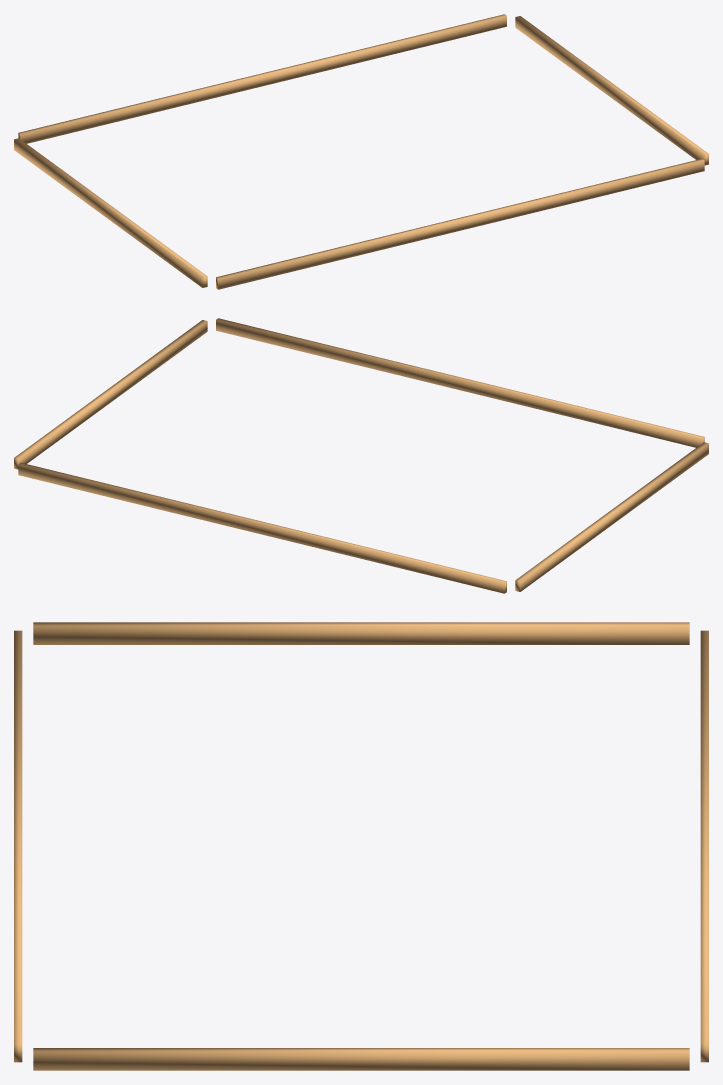
The model's file is 14_L94_CopperEdgeAndMountBosses.glb.
3 views of the same model, one above another, from view 1: azimuth 30°, elevation 25°; view 2: azimuth 150°, elevation 25°; view 3: azimuth 270°, elevation 25° (orthographic). The views are drawn at different scales.
Parts seen in each view (by area): view 1: L94_CopperEdgeAndMountBosses; view 2: L94_CopperEdgeAndMountBosses; view 3: L94_CopperEdgeAndMountBosses.
Boxes of the visible parts, box(x1,y1,x2,y2) form: L94_CopperEdgeAndMountBosses: box(14, 14, 708, 289); L94_CopperEdgeAndMountBosses: box(14, 318, 708, 593); L94_CopperEdgeAndMountBosses: box(14, 622, 708, 1070).
Size of the model in its own units: 1.33 by 0.027 by 0.911.
